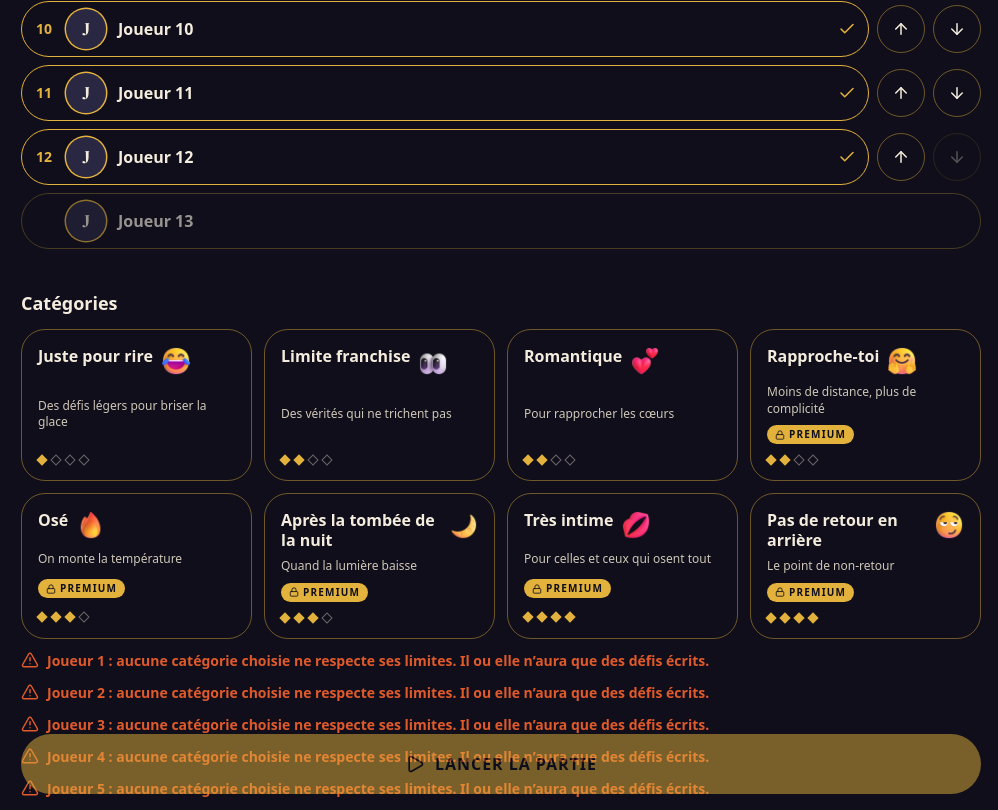
more than 12 seated players blocks launch with an explanation
The image size is (998, 810).
(page scrolled)
Click the button "Juste pour rire Des défis légers pour briser la glace".
click(136, 405)  # box x1=21 y1=329 x2=252 y2=481
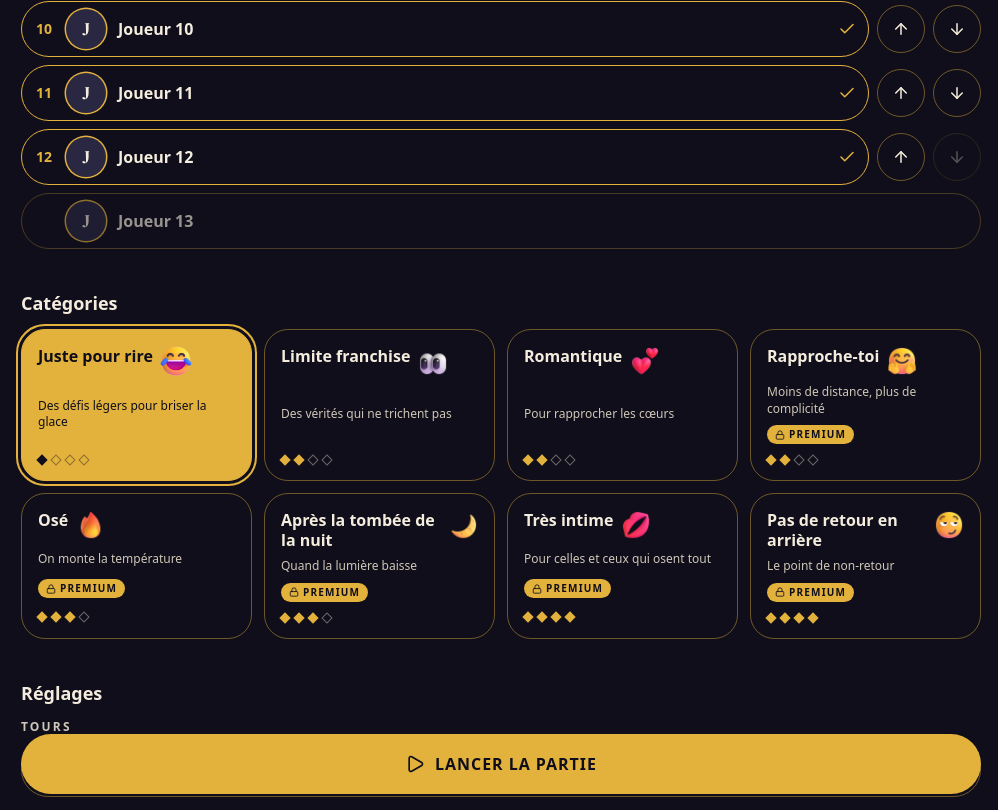
Click the button "J Joueur 13".
click(86, 221)  # box x1=21 y1=193 x2=981 y2=249
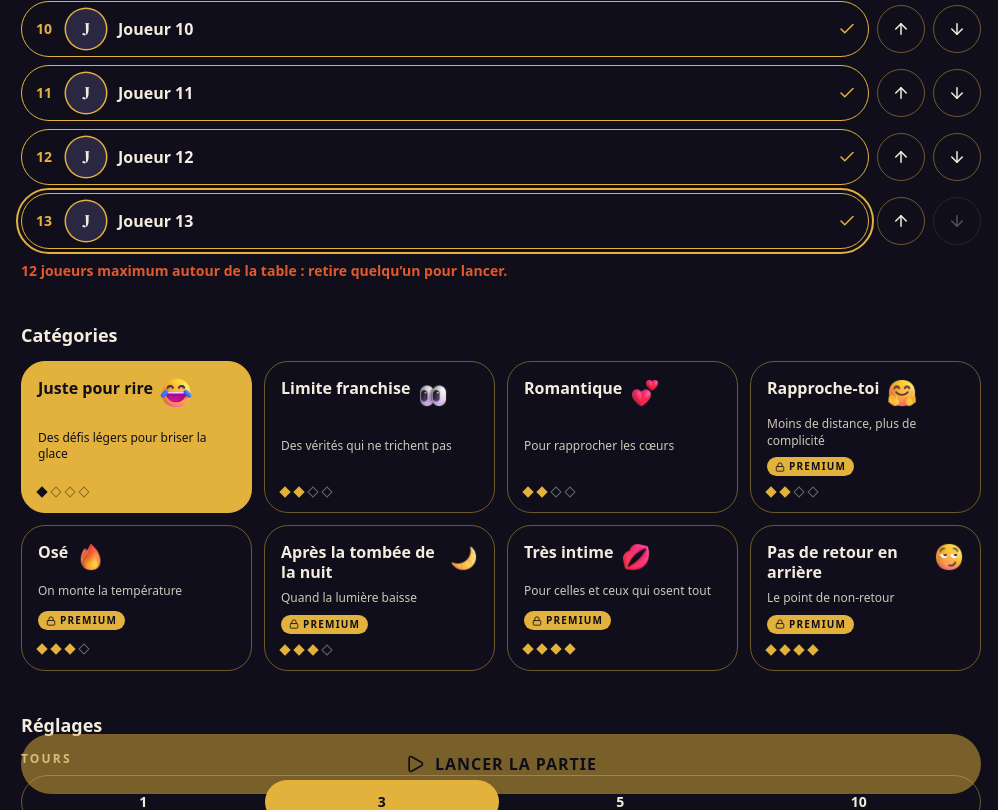
Result: the button "Lancer la partie" is disabled at x1=21 y1=734 x2=981 y2=794
Result: the text "12 joueurs maximum autour de la table : retire quelqu’un pour lancer." is shown at x1=21 y1=261 x2=507 y2=280
